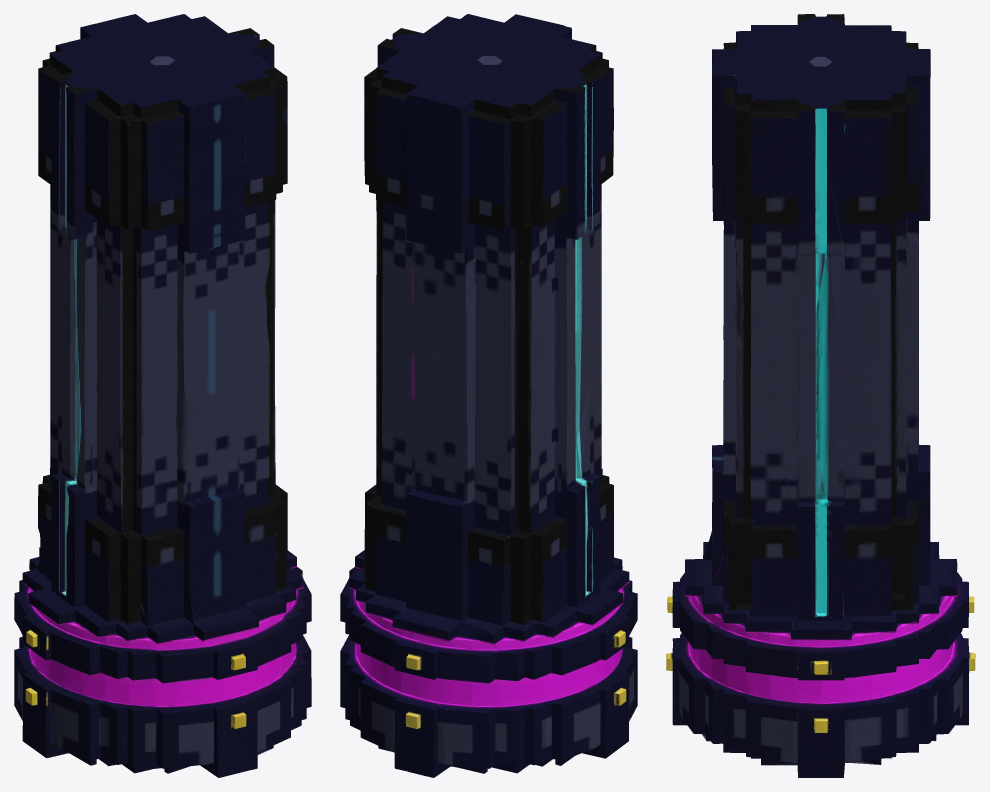
The model's file is poste-neon.glb.
3 views of the same model, side by side, from view 1: azimuth 30°, elevation 25°; view 2: azimuth 150°, elevation 25°; view 3: azimuth 270°, elevation 25° (orthographic).
Visible parts, largest first — view 1: Mesh_0; view 2: Mesh_0; view 3: Mesh_0.
Part boxes in pixels (x1,y1,x2,y2): Mesh_0: [14, 14, 311, 777]; Mesh_0: [340, 14, 637, 777]; Mesh_0: [666, 14, 975, 777].
Bounding box in the file's own units: 0.8123 × 1.9 × 0.8154.
Materials: 1 (1 with a texture image).
